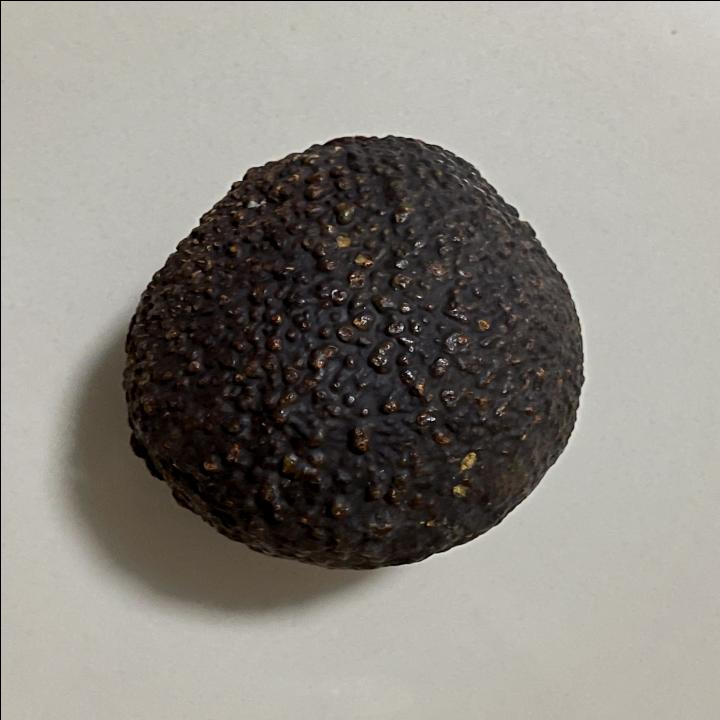Level3: (111, 120, 596, 578)
